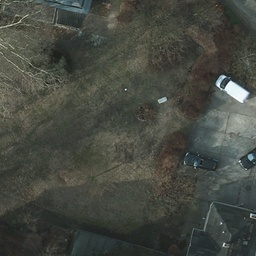car: (215, 75, 249, 102), (184, 153, 217, 172), (238, 143, 255, 171)
